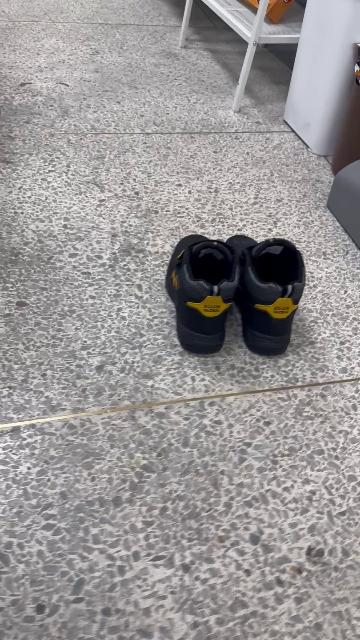shoe_worn: (227, 231, 308, 359), (165, 233, 232, 354)
